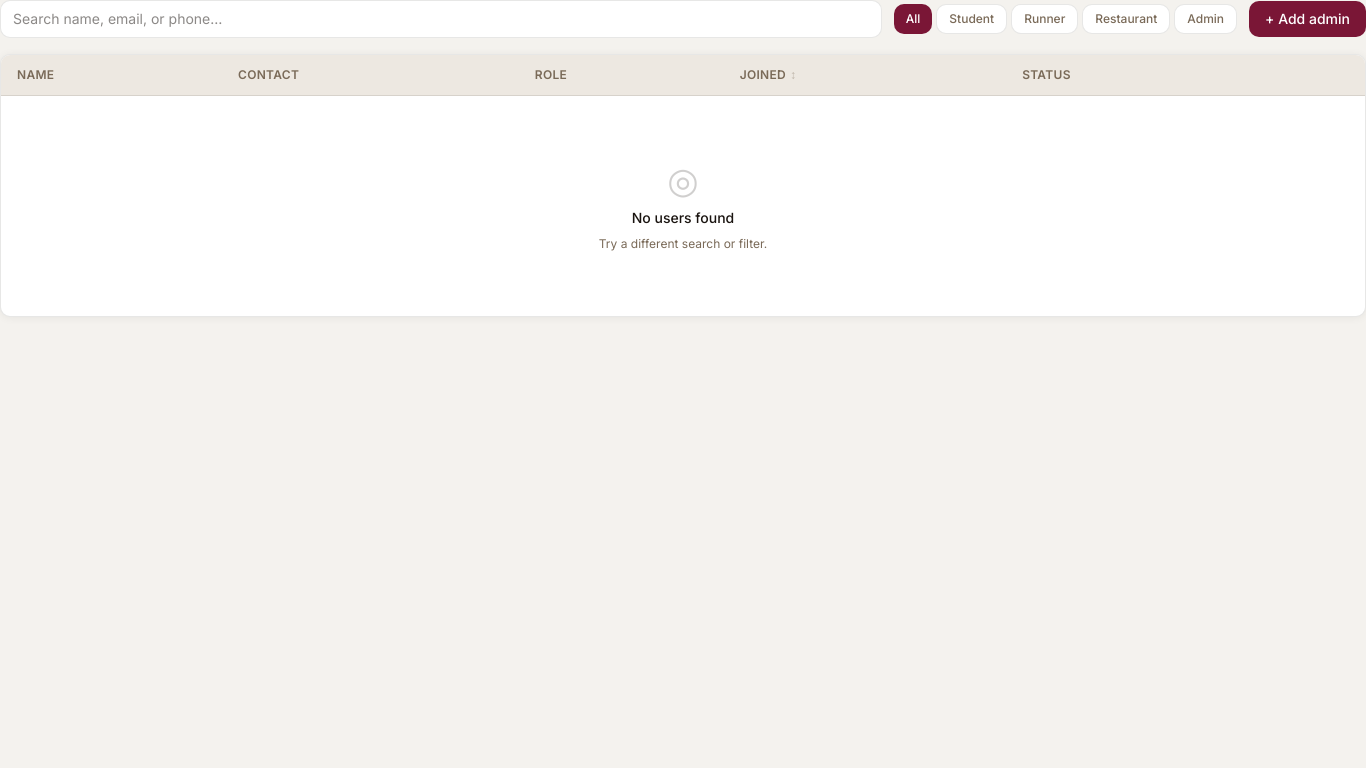
Scenario: Add admin › shows the backend's reason when the email is already taken, and keeps the dialog open
Click the button "+ Add admin" at (1308, 19), box 1249,1 -> 1365,37
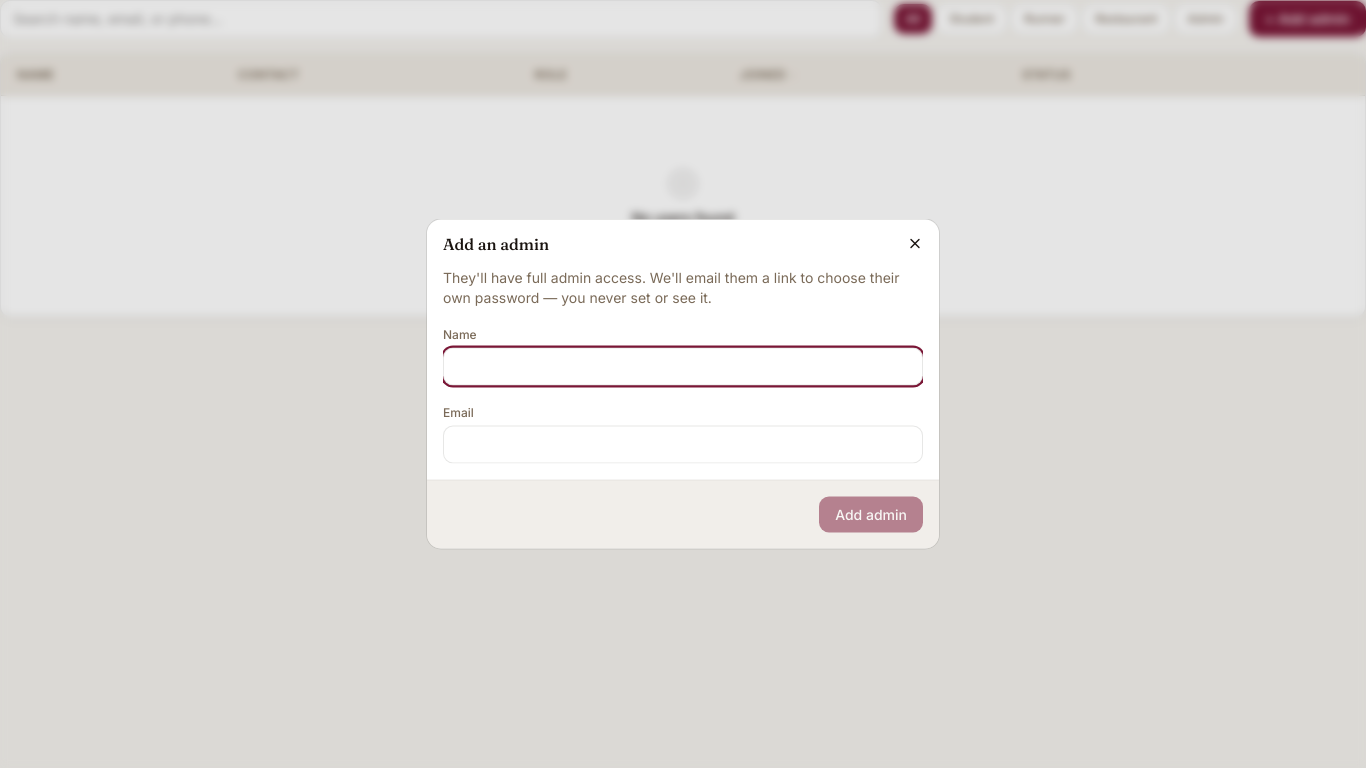
Type "Chef" into the field labelled "Name" at (683, 366), box 443,348 -> 923,386
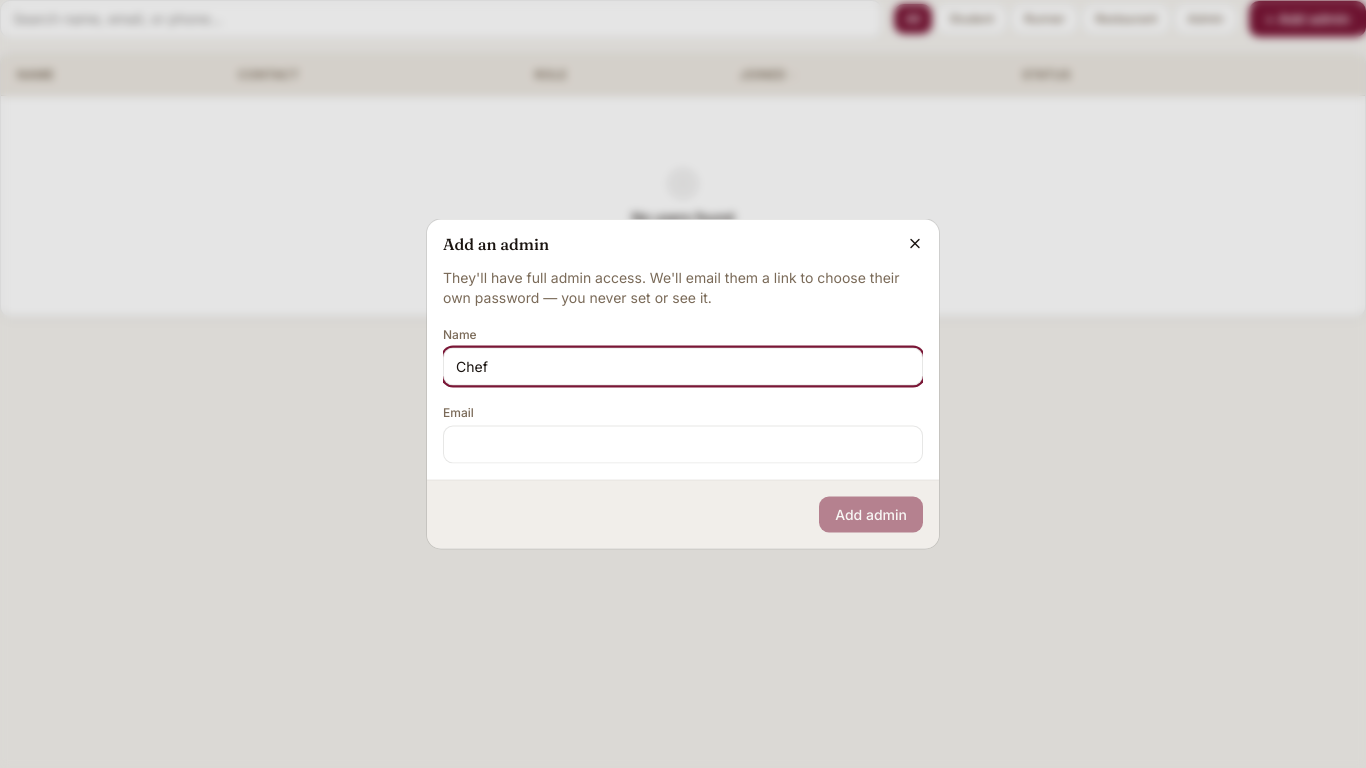
Type "chef@example.com" into the field labelled "Email" at (683, 444), box 443,426 -> 923,464
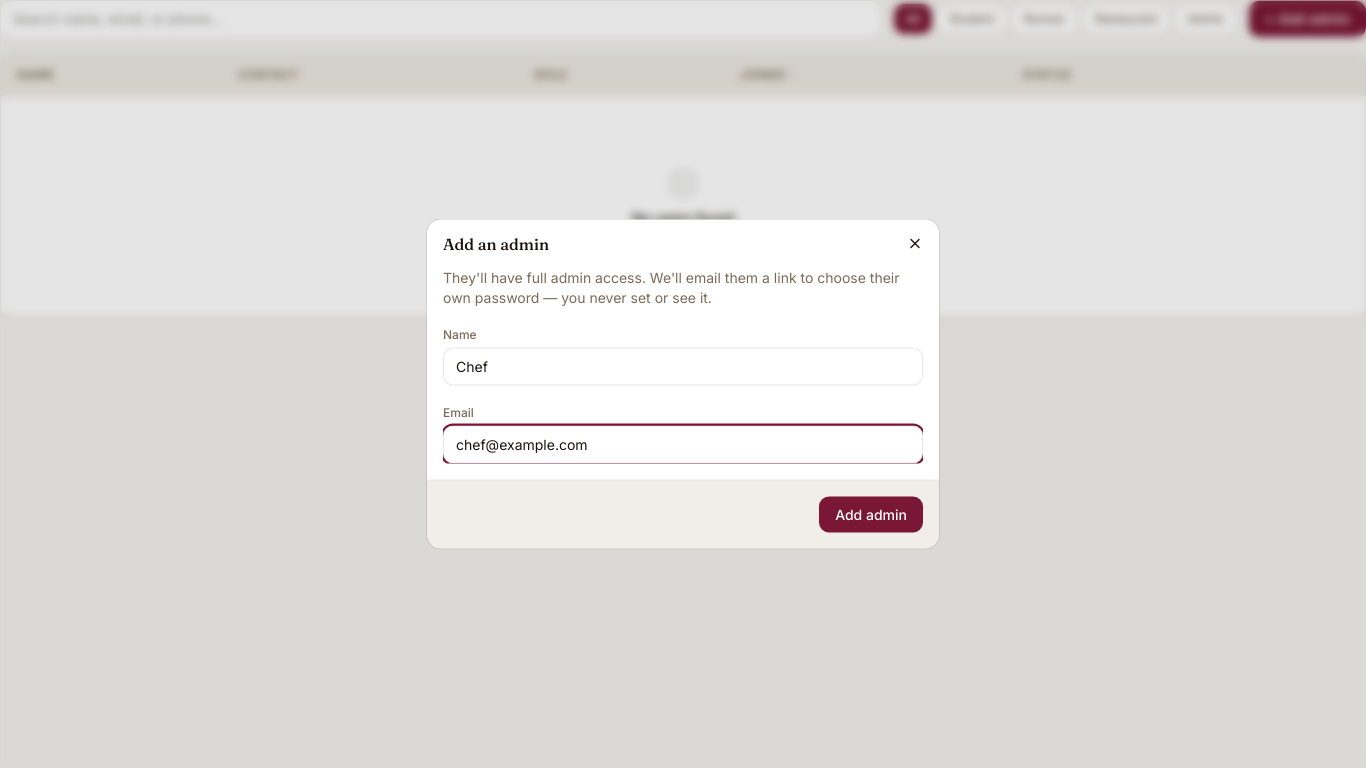
Click the button "Add admin" at (871, 514), box 819,496 -> 923,532
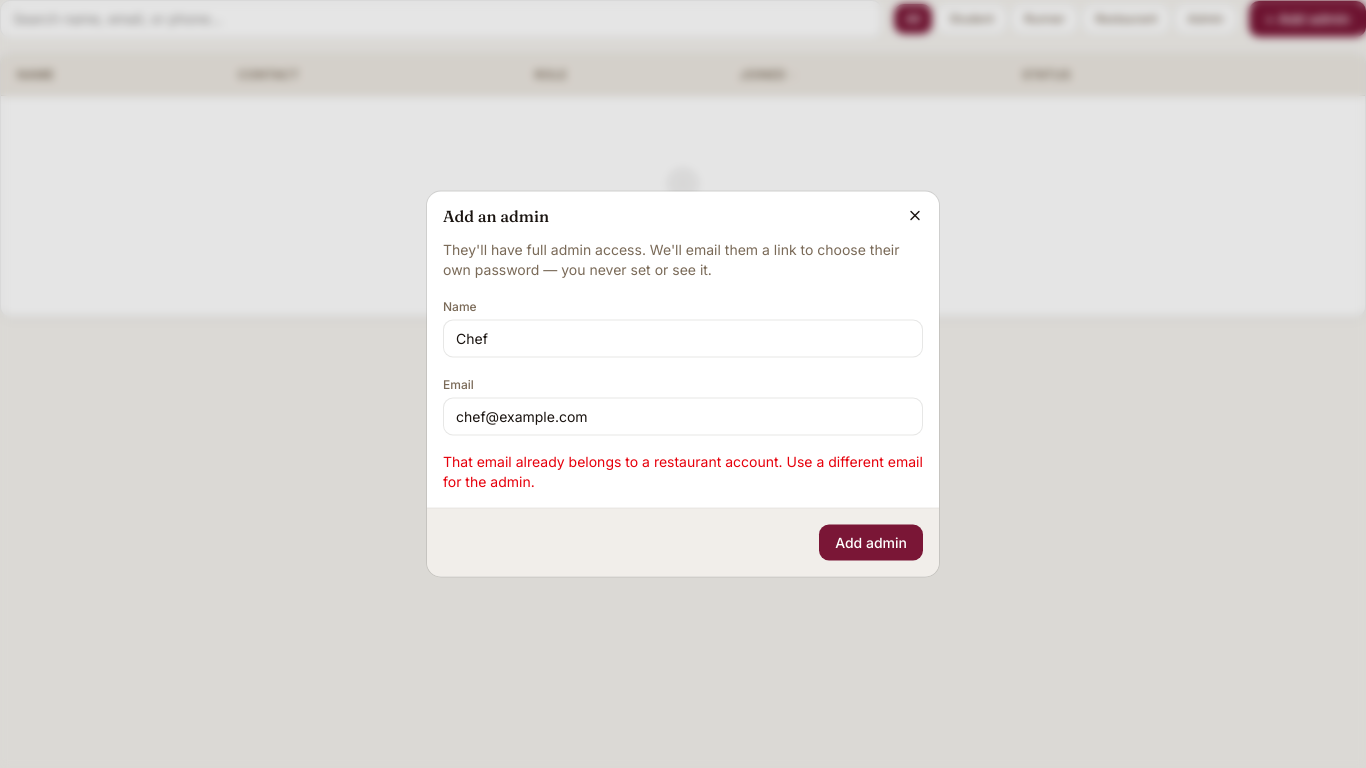
expect the dialog is shown: met, box 427,192 -> 939,576
expect the message shows "already belongs to a restaurant account": met, box 443,452 -> 923,490
